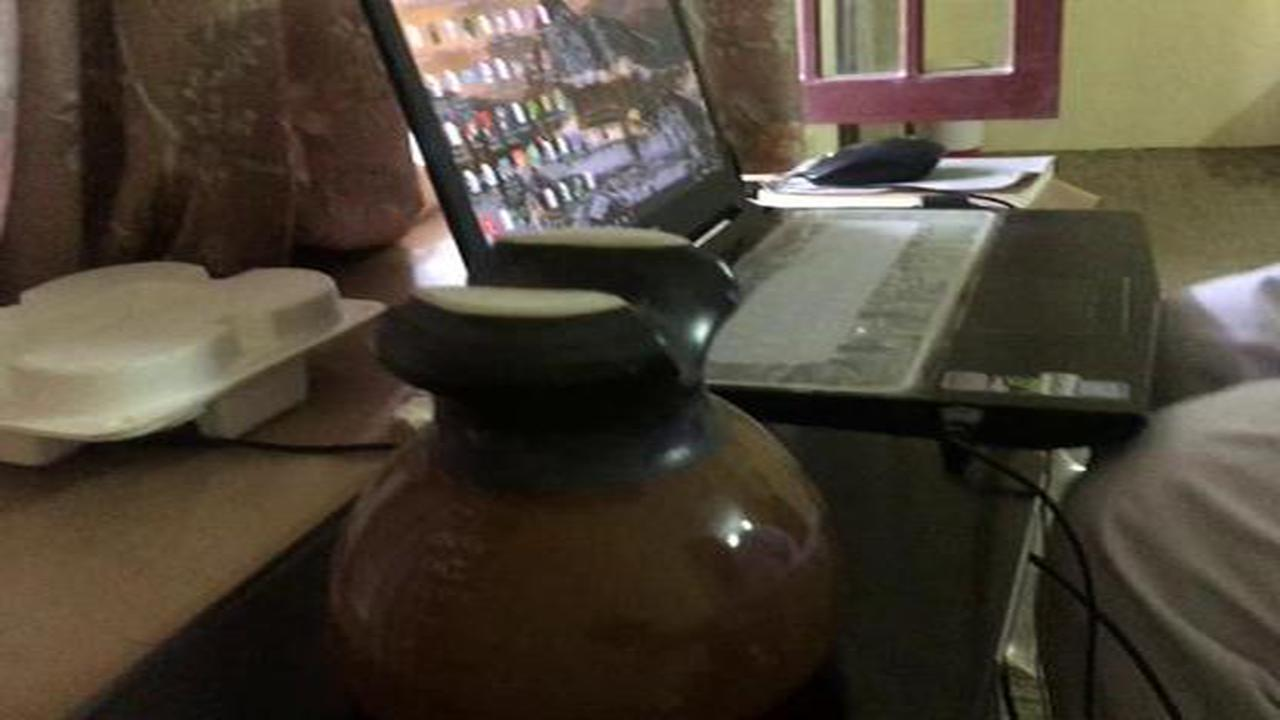insulator_pin: (311, 210, 877, 714)
